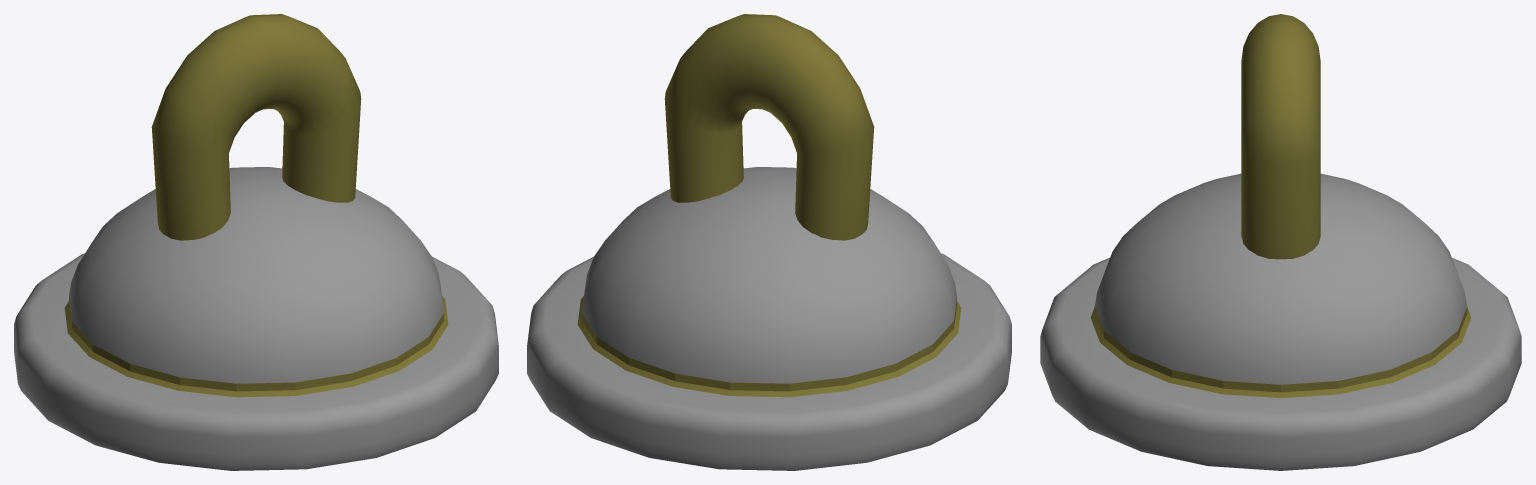
File: Magnet.fbx
3 renders of one model, left to right at view 1: azimuth 30°, elevation 25°; view 2: azimuth 150°, elevation 25°; view 3: azimuth 270°, elevation 25°, orthographic.
Visible parts, largest first — view 1: Magnet; view 2: Magnet; view 3: Magnet.
Part boxes in pixels (x1,y1,x2,y2): Magnet: (14, 14, 498, 470); Magnet: (527, 14, 1011, 470); Magnet: (1040, 14, 1521, 470).
Size of the model in its own units: 41.22 by 33.12 by 41.22.
